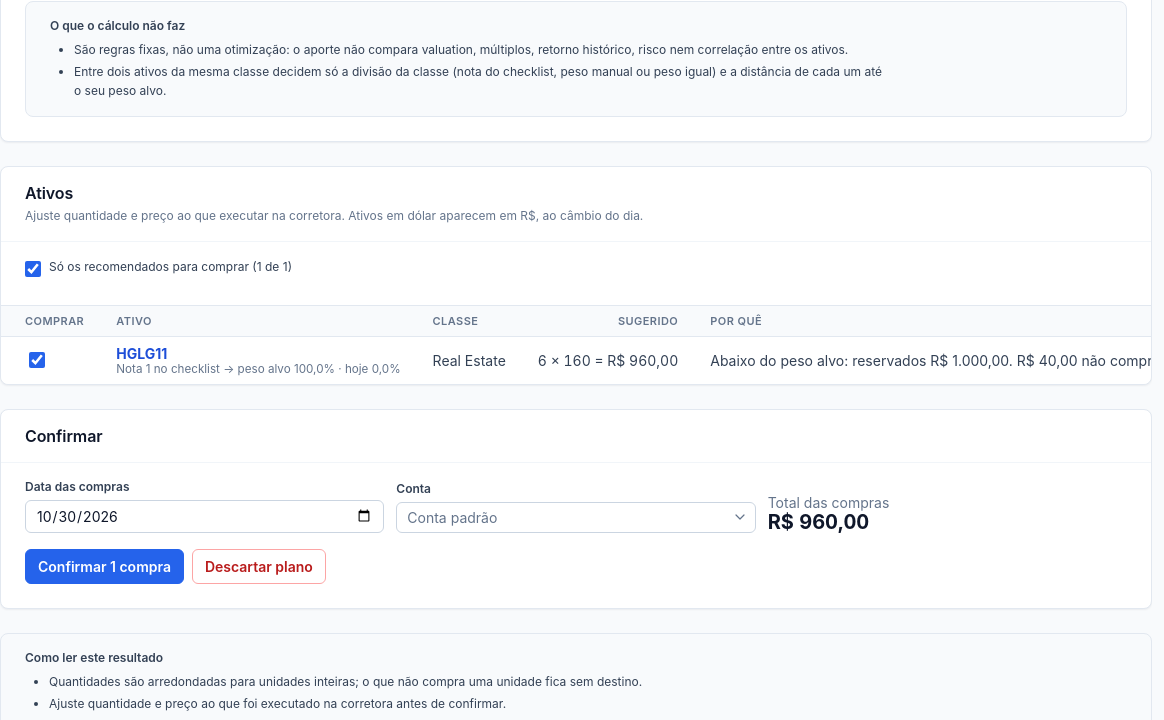
Scenario: contribute › refuses to confirm without any asset
(page scrolled)
Click the checkbox named "Comprar HGLG11" at (37, 360), box x1=29 y1=352 x2=45 y2=368
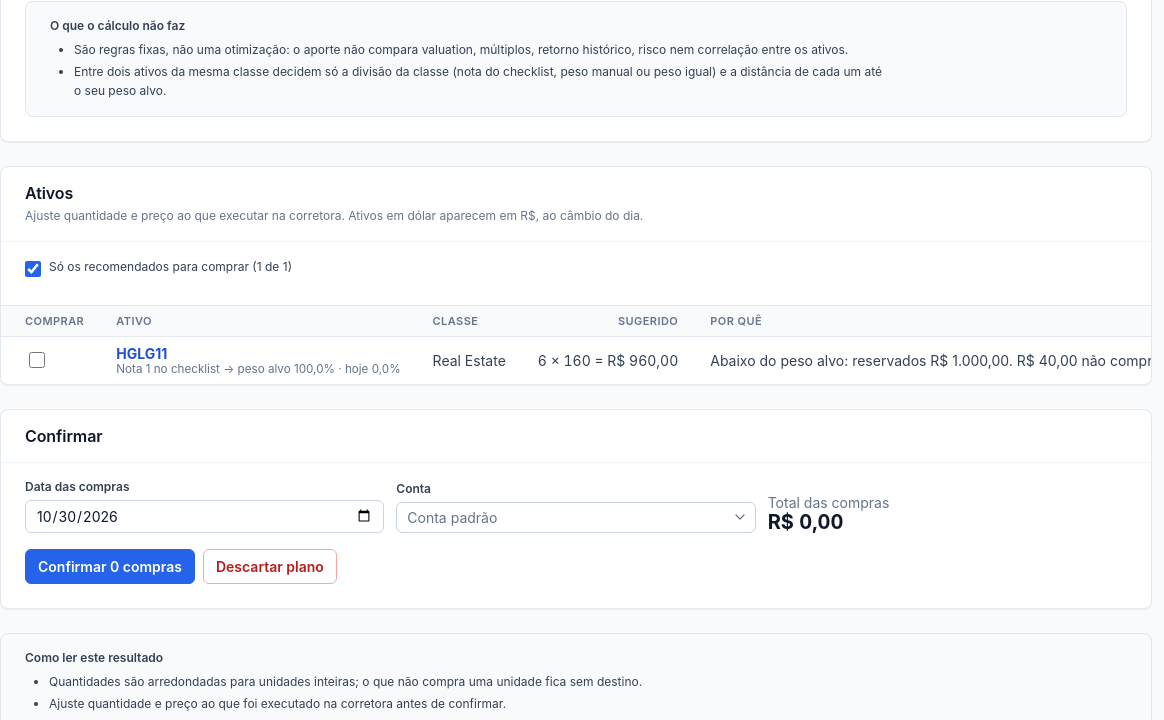
Click the button "Confirmar 0 compras" at (110, 566), box x1=25 y1=548 x2=195 y2=584
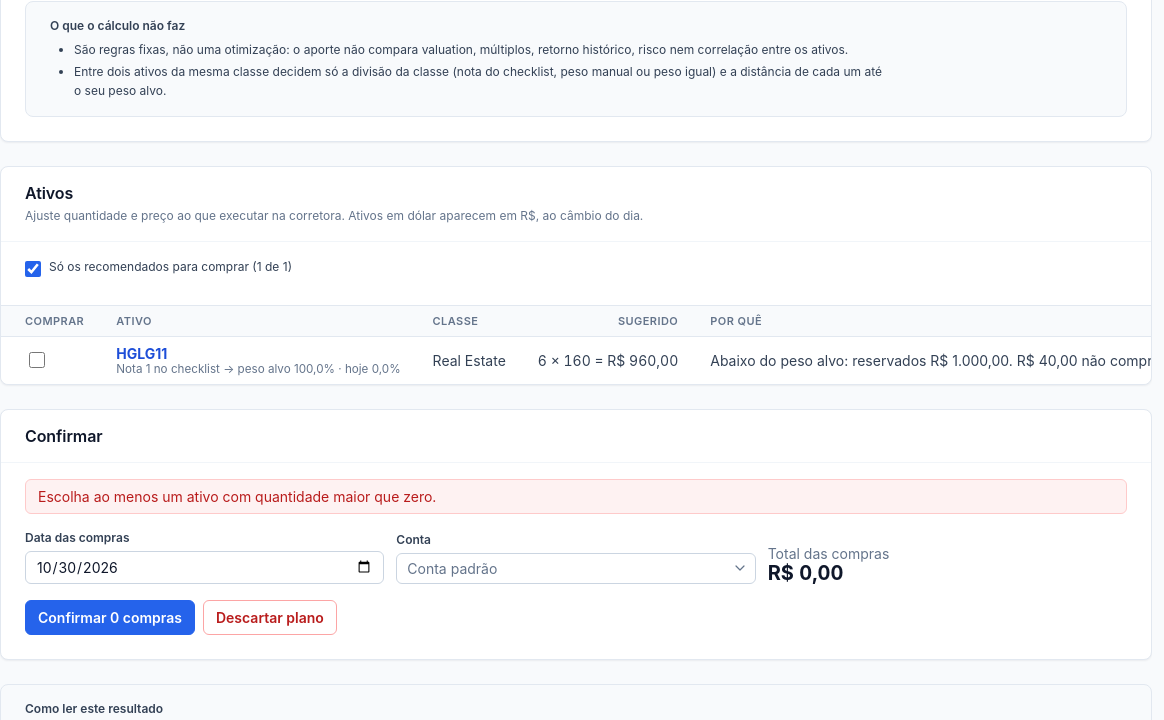
Check: the text "Escolha ao menos um ativo com quantidade maior que zero." is shown, box x1=25 y1=478 x2=1127 y2=514
